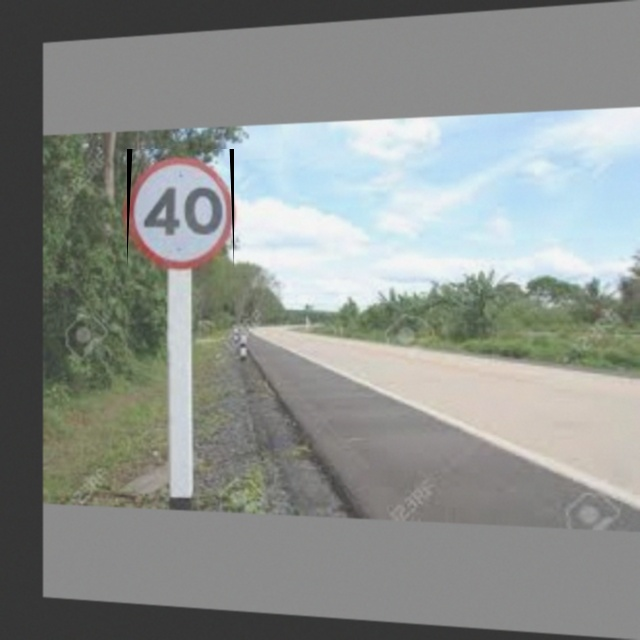Speed_Limit_40: (127, 149, 234, 268)
